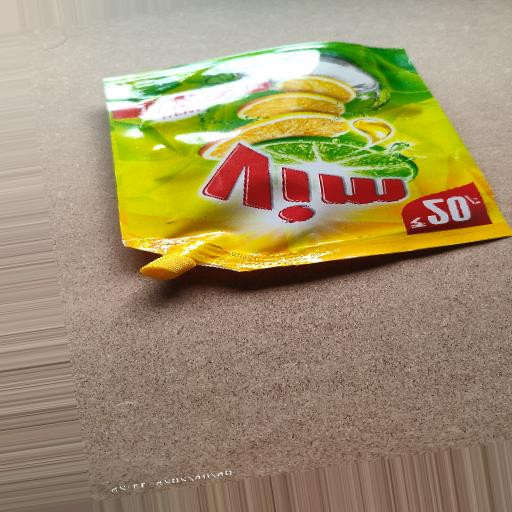VIM Dishwash liquid: (81, 23, 512, 323)
